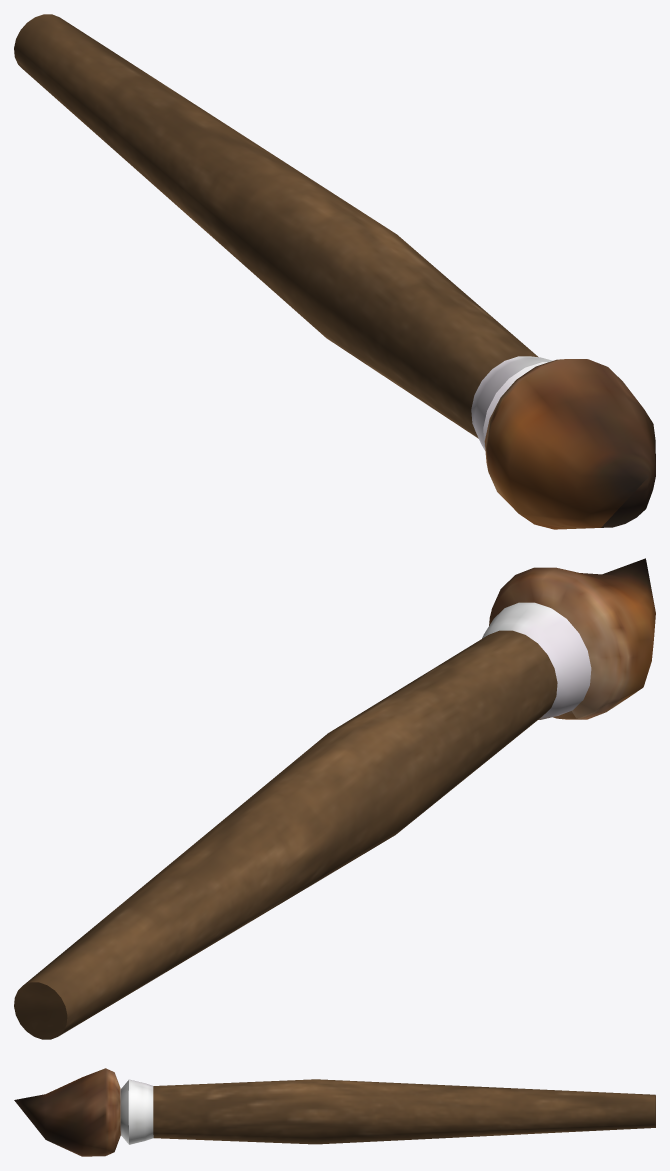
File: Brush01_Art.fbx
The picture shows the model from 3 angles, top to bottom: view 1: azimuth 30°, elevation 25°; view 2: azimuth 150°, elevation 25°; view 3: azimuth 270°, elevation 25°; orthographic projection. The views are drawn at different scales.
Parts seen in each view (by area): view 1: Brush01_Art; view 2: Brush01_Art; view 3: Brush01_Art.
Part boxes in pixels (<box>): Brush01_Art: <box>14,14,655,529</box>; Brush01_Art: <box>14,558,655,1039</box>; Brush01_Art: <box>14,1068,655,1156</box>.
Bounding box in the file's own units: 0.066 × 0.0659 × 0.4789.
